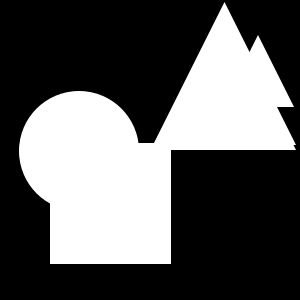circle: (50, 143, 171, 264)
rectangle: (19, 91, 139, 211)
triangle: (151, 5, 296, 150), (153, 2, 296, 145), (222, 35, 294, 107)
